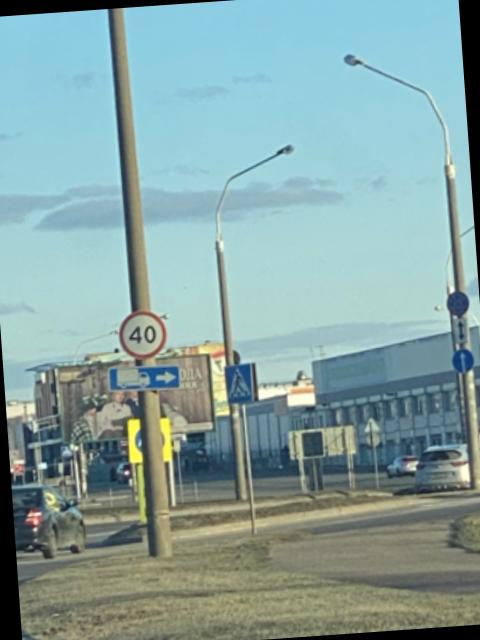crosswalk-sign: (222, 361, 258, 406)
